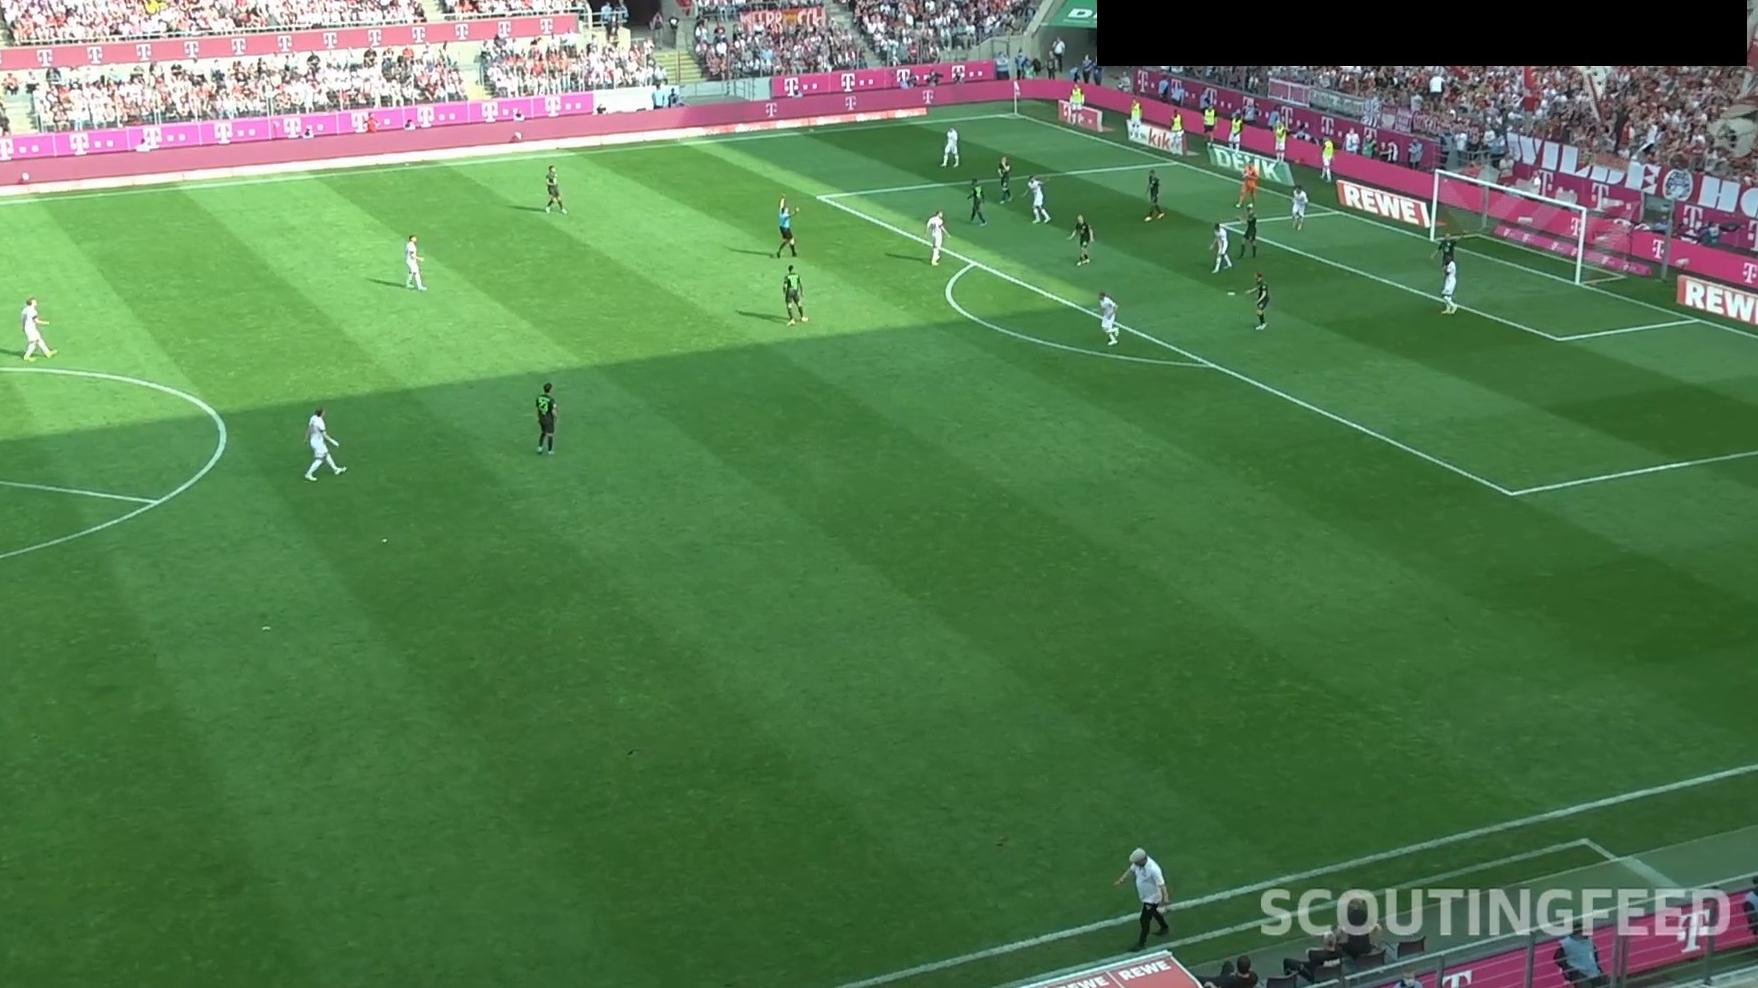ball: (1242, 170, 1250, 179)
